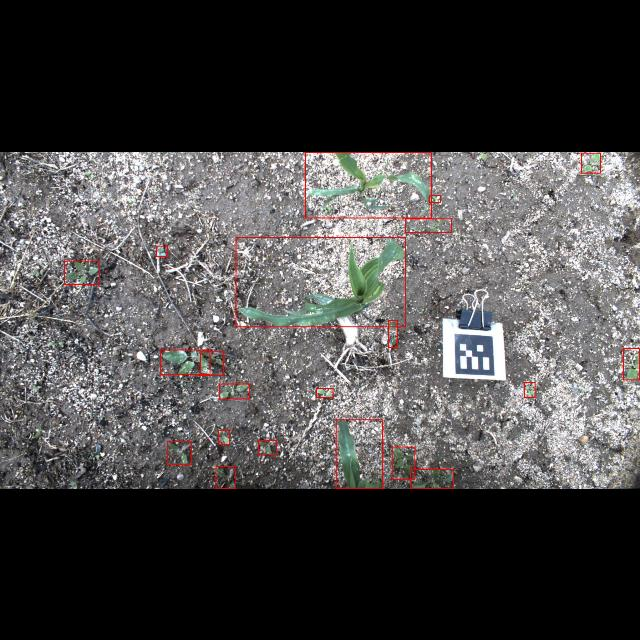crop: (236, 236, 404, 326), (305, 151, 431, 217), (336, 419, 382, 488)
weed: (160, 350, 210, 374), (64, 260, 100, 284), (411, 468, 454, 488), (392, 446, 414, 479), (405, 218, 451, 232), (200, 351, 224, 375), (168, 442, 192, 464), (623, 348, 639, 380), (219, 384, 249, 398), (216, 466, 234, 488), (582, 152, 600, 172), (388, 319, 398, 347), (258, 440, 276, 454), (316, 388, 334, 398), (218, 430, 230, 444), (525, 382, 535, 398), (156, 244, 168, 256), (430, 194, 440, 202)
